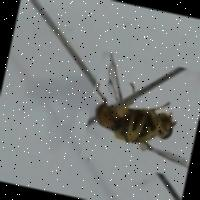Oriental-fruit-fly: (79, 51, 200, 179)
